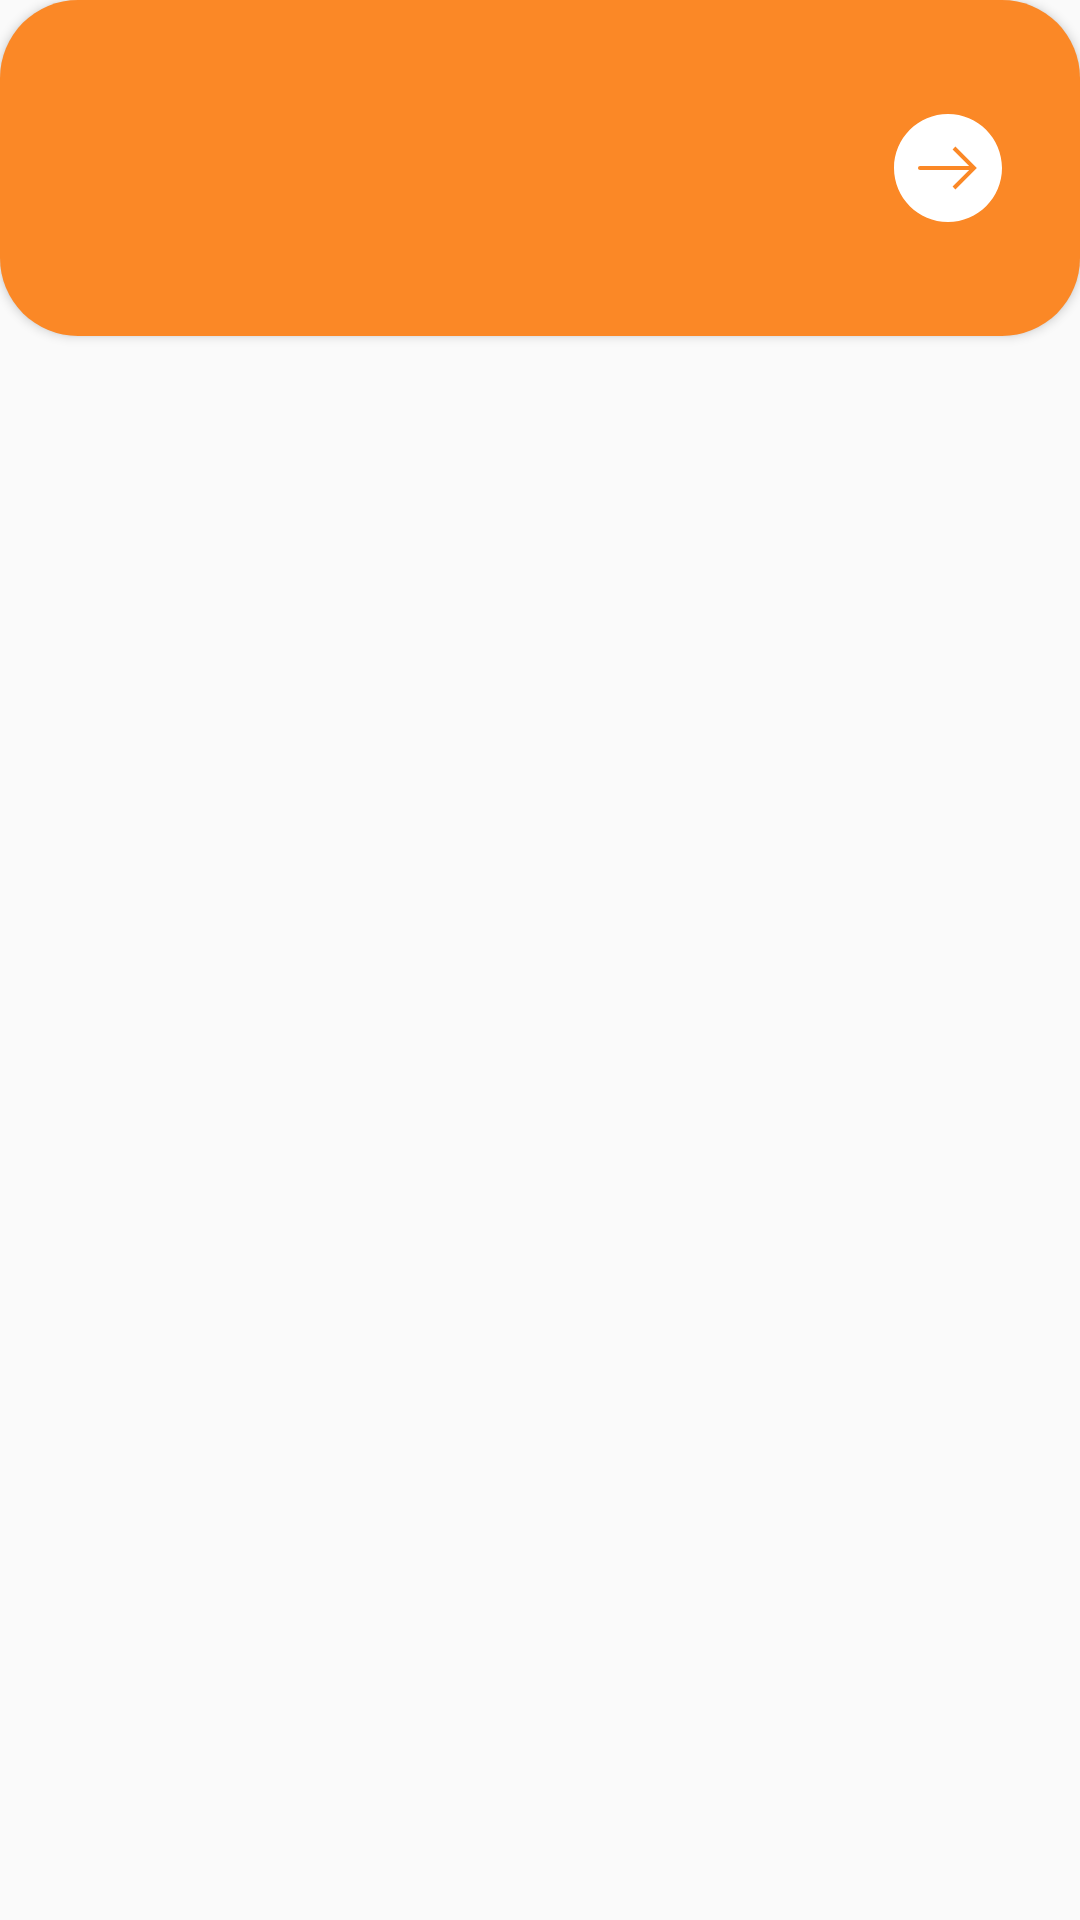

Screen size 1080*1920. Icon name, then its center in pixels as point (x, y):
arrow action right: point (948, 168)
